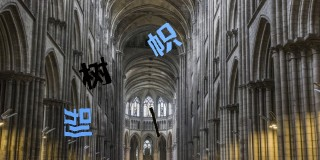一: (147, 106, 164, 140)
别: (62, 106, 95, 138)
帜: (146, 21, 183, 57)
树: (77, 58, 113, 87)
